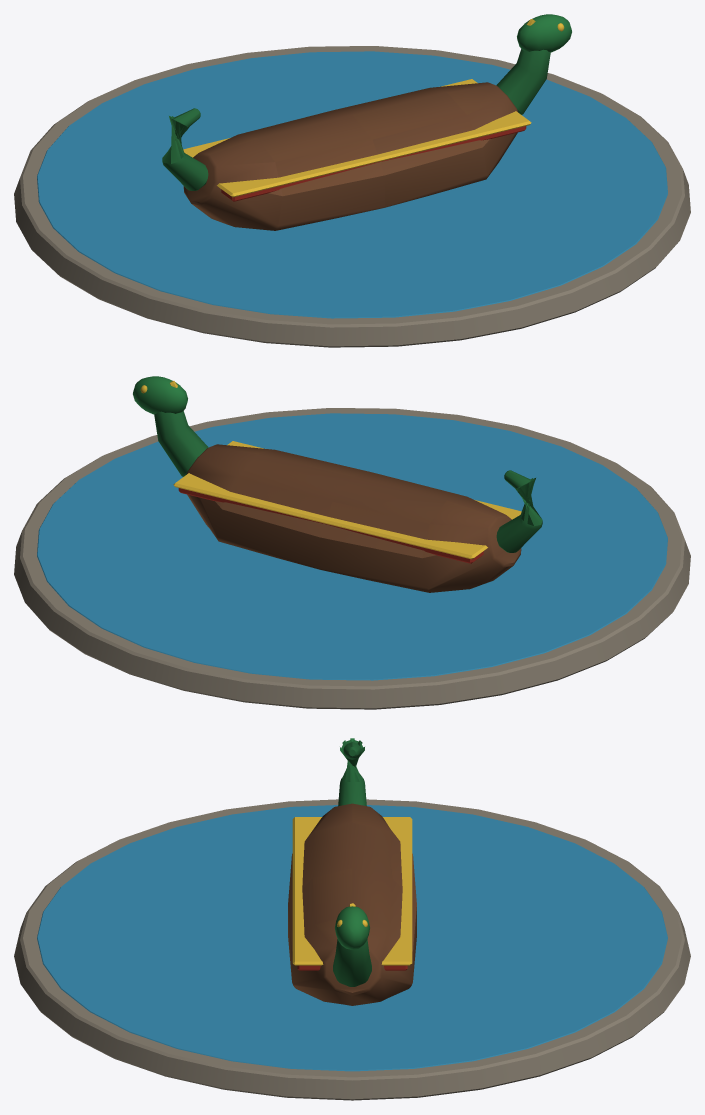
The model's file is lm-quanho.glb.
The picture shows the model from 3 angles, top to bottom: view 1: azimuth 30°, elevation 25°; view 2: azimuth 150°, elevation 25°; view 3: azimuth 270°, elevation 25°; orthographic projection.
Bounding box in the file's own units: 9.18 × 2.37 × 9.18.
